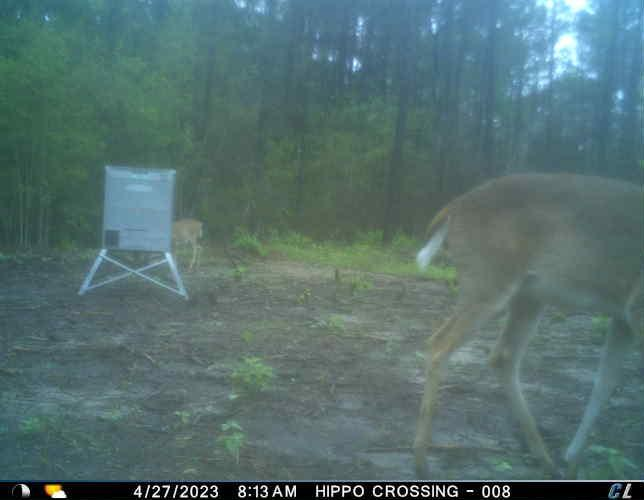Deer: (408, 167, 644, 481), (173, 216, 206, 276)
